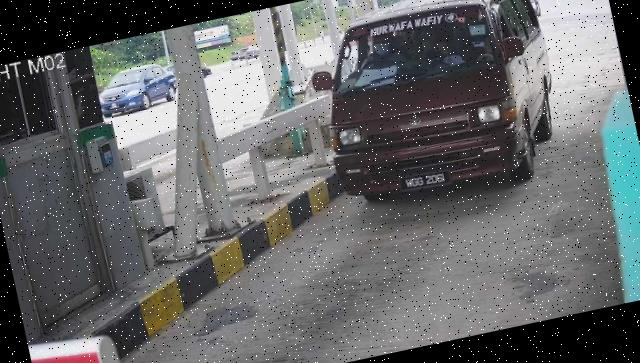License_Plate: (398, 166, 454, 198)
van: (304, 1, 573, 218)
